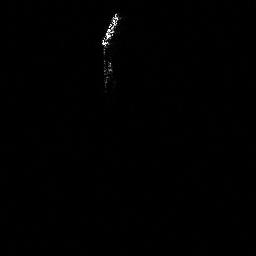ship: (100, 12, 121, 91)
